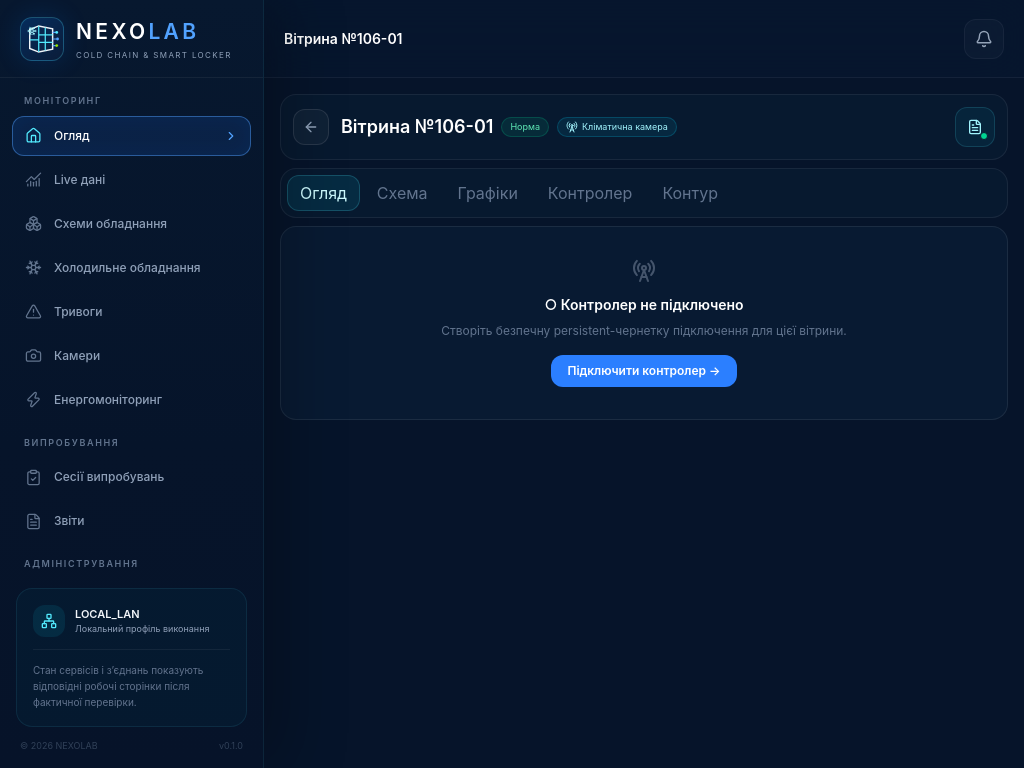
it: RefrigerationDetailScreen › keeps passport and lifecycle controls out of the primary canvas flow
Click the button "Схема" at [402, 193], box x1=364 y1=175 x2=441 y2=211
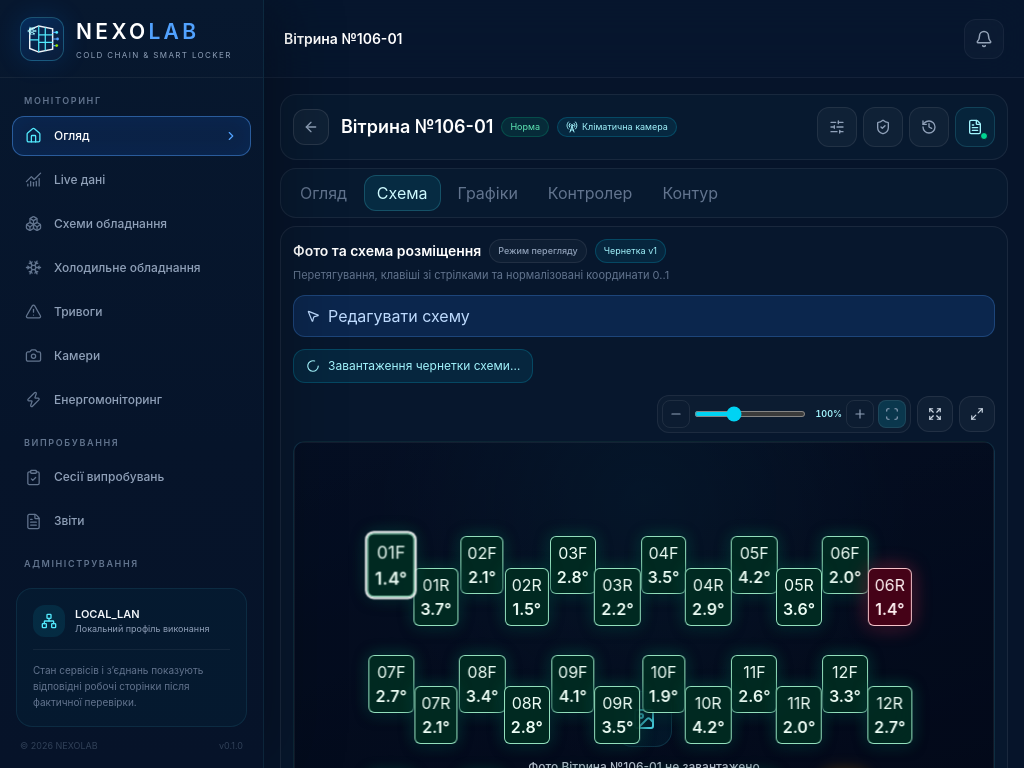
Check: the button named "Вибрати датчик 01F на схемі" is shown, box x1=368 y1=533 x2=415 y2=597
Check: the heading titled "Доступ оператора" is shown, box x1=863 y1=107 x2=903 y2=147
Check: the button named "Відкрити версії та публікацію схеми" is shown, box x1=909 y1=107 x2=949 y2=147
Click the button named "Відкрити паспорт обладнання" at [975, 127], box x1=955 y1=107 x2=995 y2=147
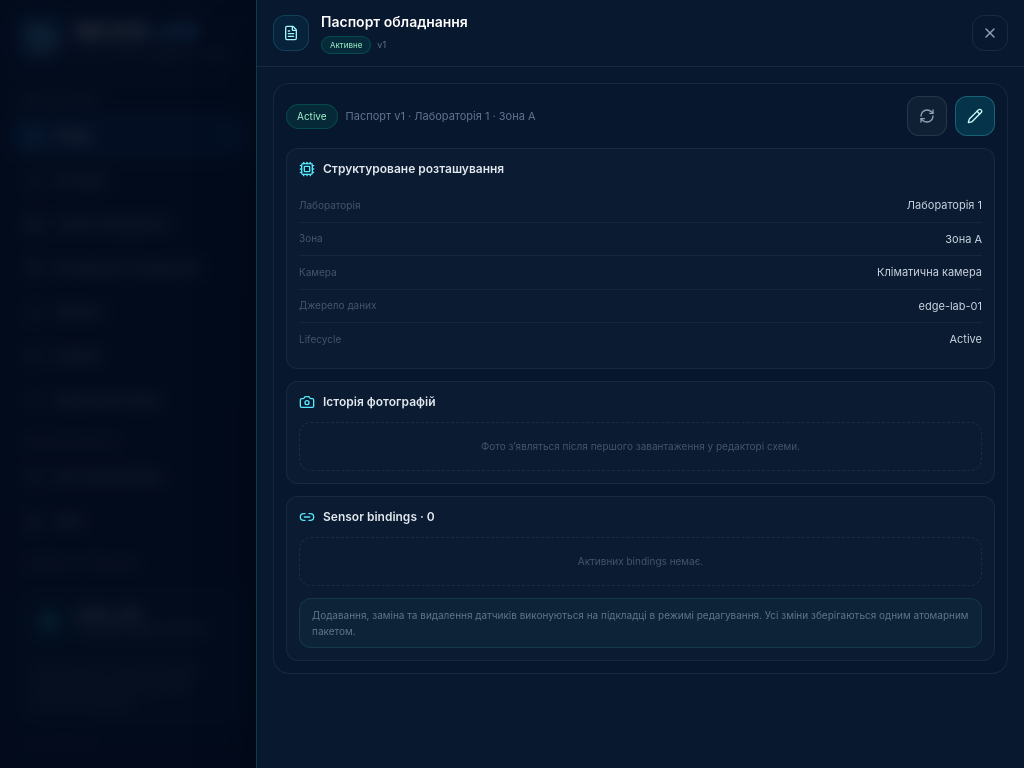
Check: the dialog "Паспорт обладнання" is shown
